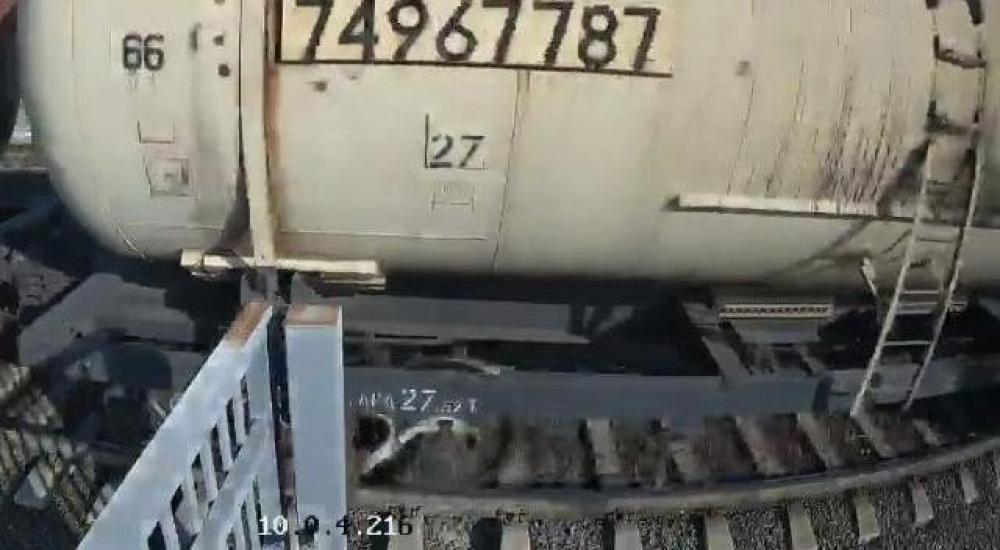Wagon-number: (284, 0, 667, 75)
